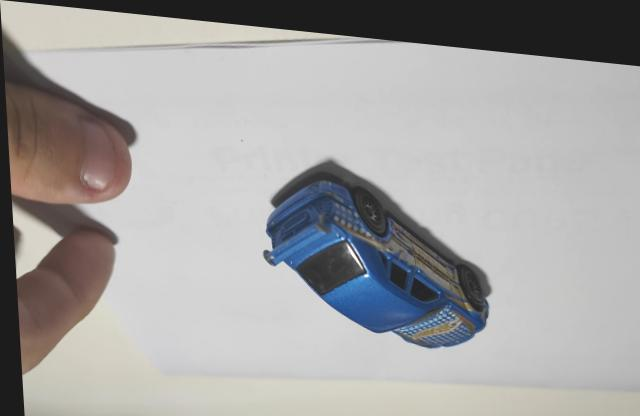04_MERZEDES: (260, 150, 490, 339)
